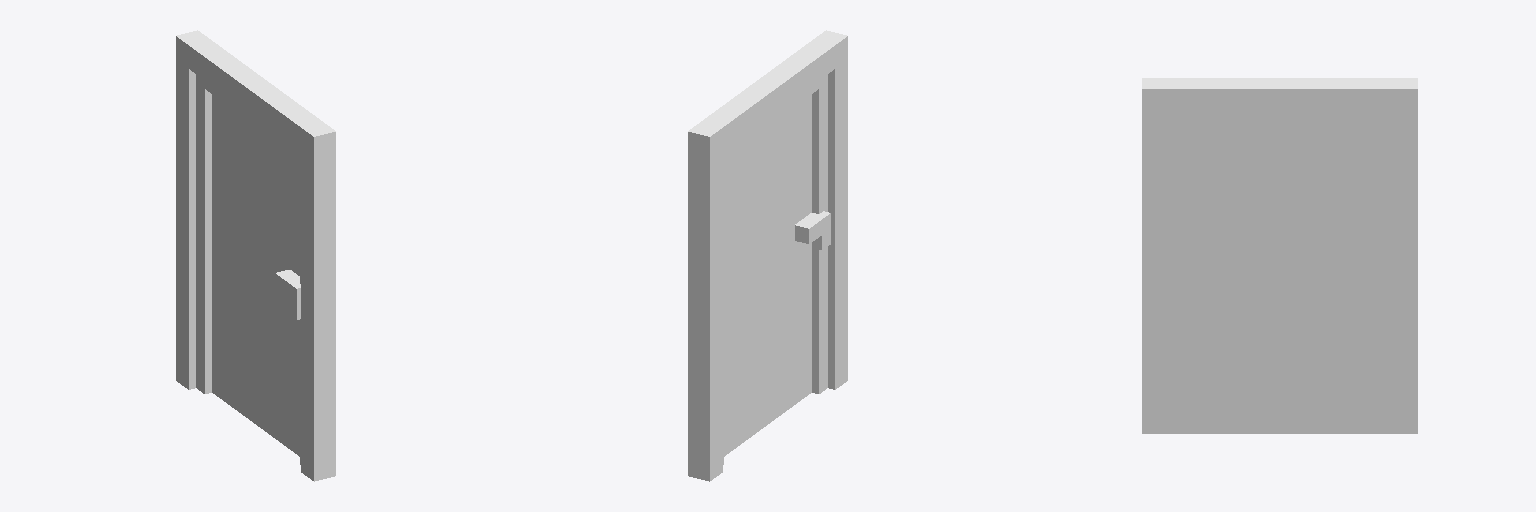
The model's file is VoxelNuke-8-Door.obj.
The picture shows the model from 3 angles: view 1: azimuth 30°, elevation 25°; view 2: azimuth 150°, elevation 25°; view 3: azimuth 270°, elevation 25°; orthographic projection.
Visible parts, largest first — view 1: Door; view 2: Door; view 3: Door.
Boxes of the visible parts, box(x1,y1,x2,y2) form: Door: box(176, 30, 335, 481); Door: box(688, 30, 847, 481); Door: box(1142, 78, 1417, 433).
Size of the model in its own units: 0.06 by 0.88 by 0.64.